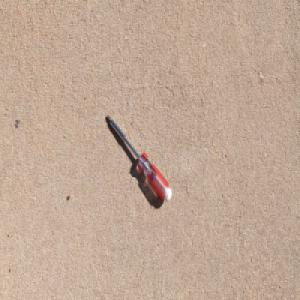Screwdriver: (105, 111, 172, 203)
